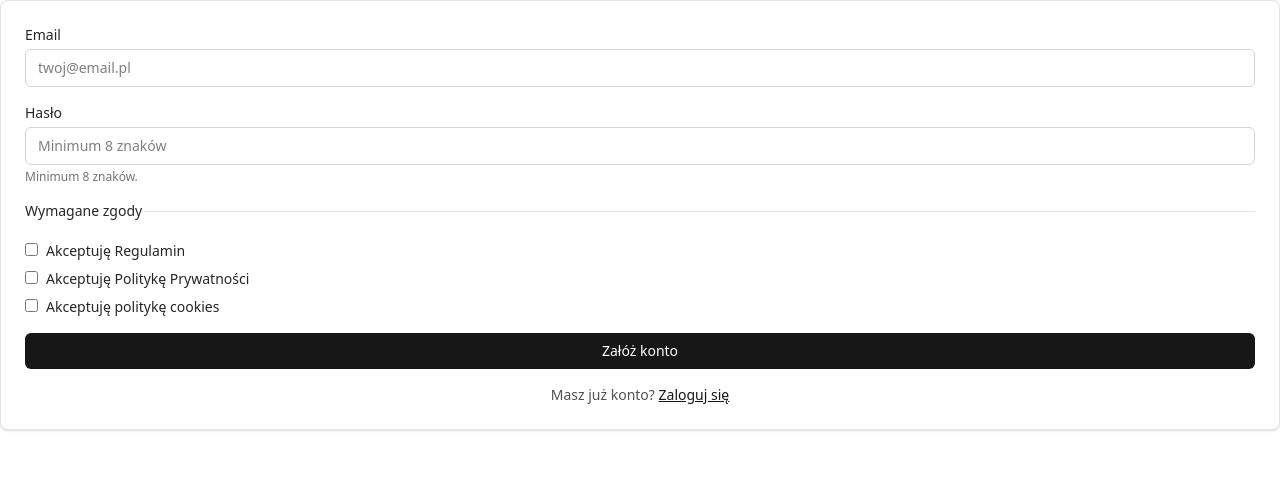
Test: SignUpForm › blokuje submit i pokazuje błąd dla zbyt krótkiego hasła
The width and height of the screenshot is (1280, 502).
Type "new-user@example.com" into the field labelled "Email" at x=640, y=68, box [25,49,1255,87]
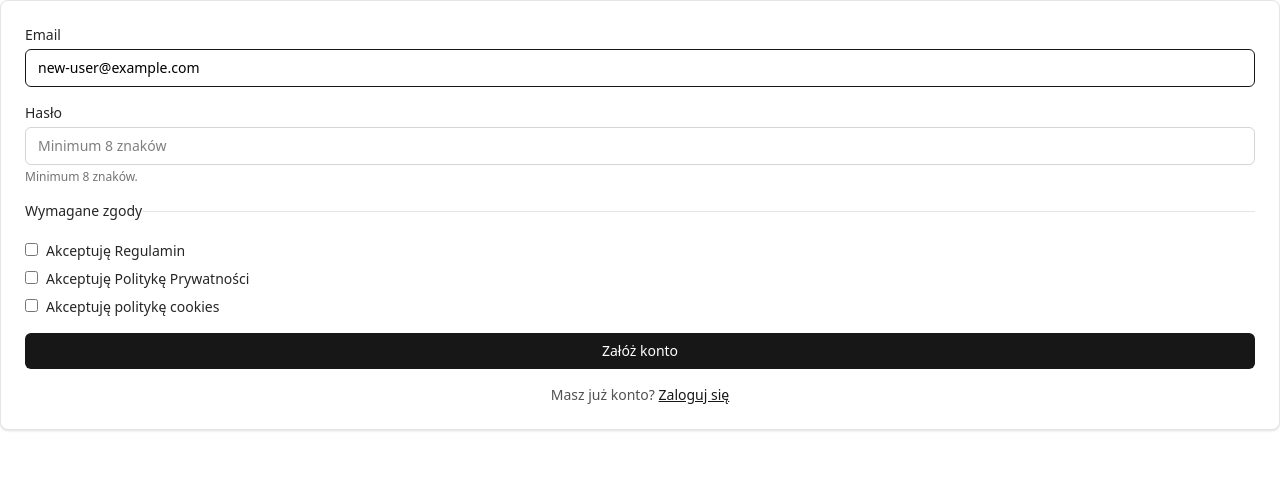
Type "1234567" into the password field labelled "Hasło" at x=640, y=146, box [25,127,1255,165]
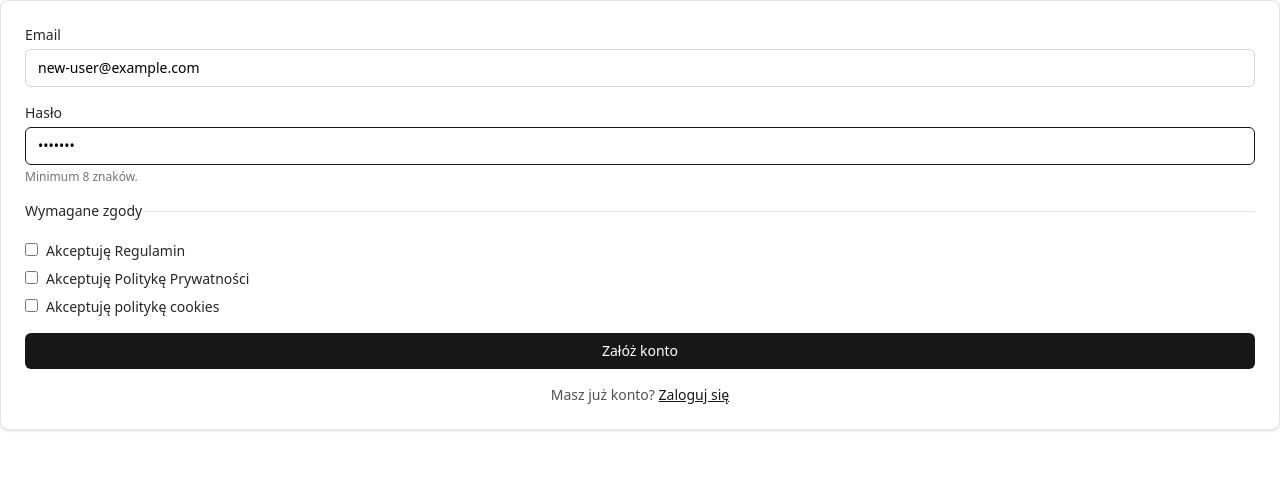
Click the checkbox labelled "Akceptuję Regulamin" at x=32, y=250, box [25,243,38,256]
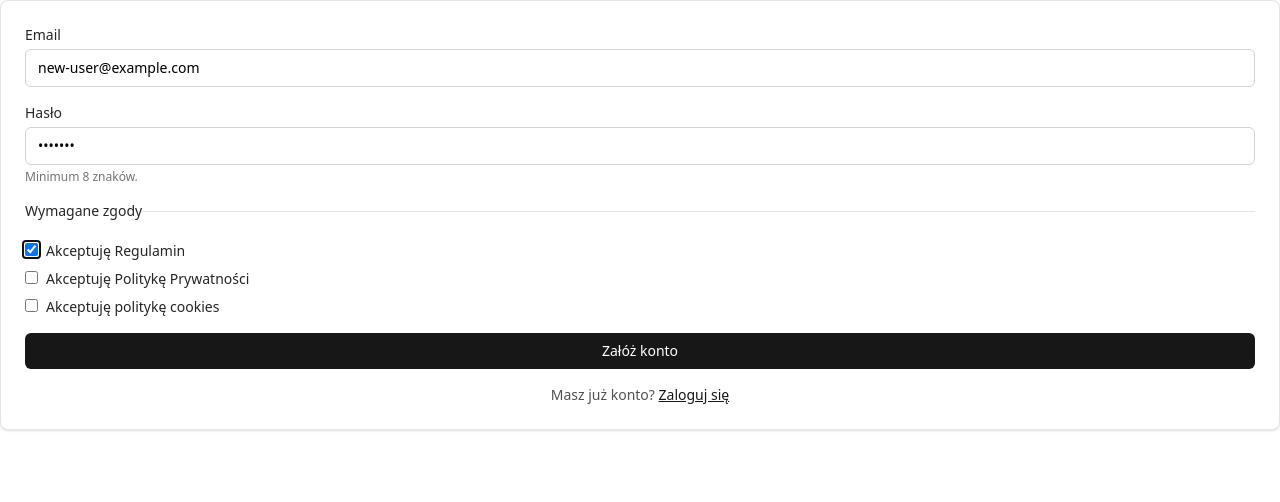
Click the checkbox labelled "Akceptuję Politykę Prywatności" at x=32, y=278, box [25,271,38,284]
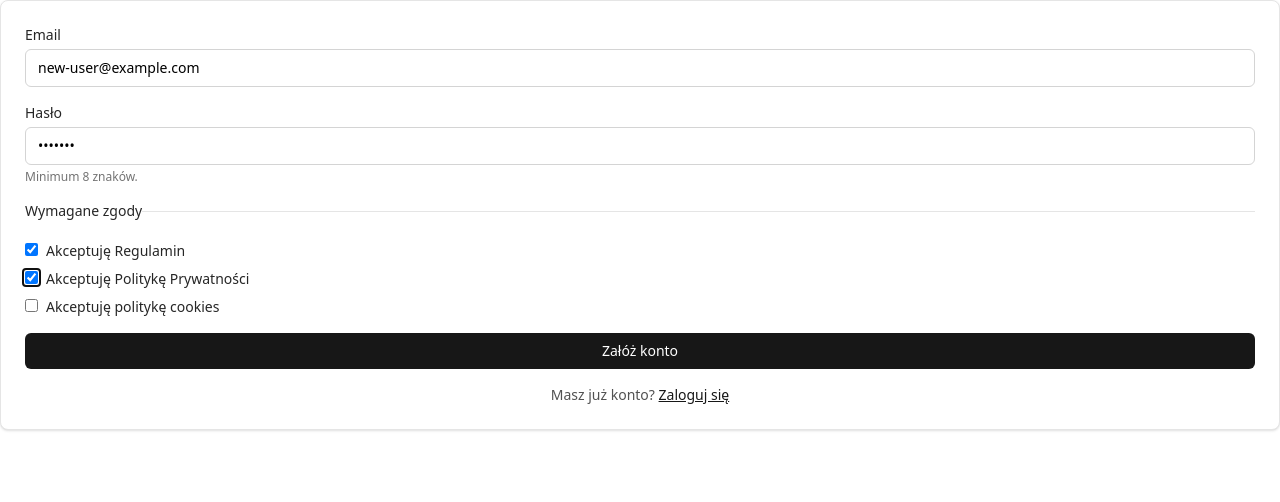
Click the checkbox labelled "Akceptuję politykę cookies" at x=32, y=306, box [25,299,38,312]
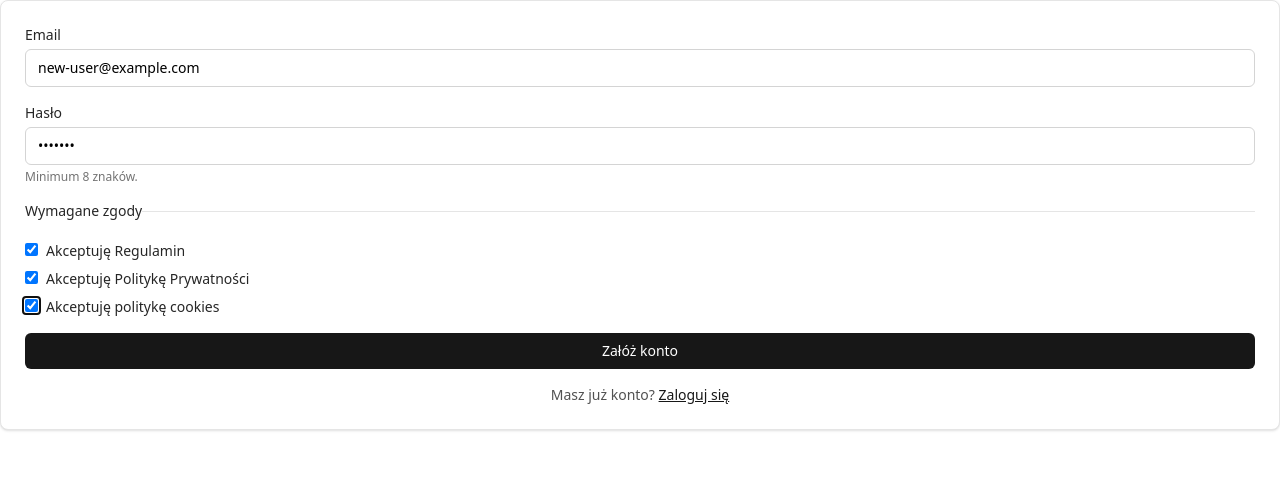
Click the button "Załóż konto" at x=640, y=351, box [25,333,1255,369]
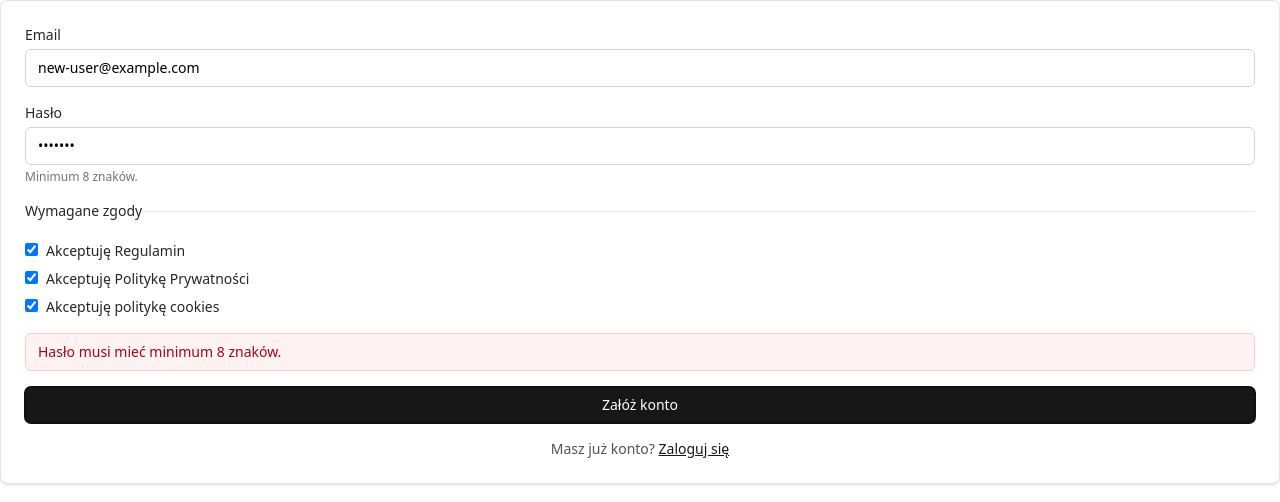
Expected: the message reads "Hasło musi mieć minimum 8 znaków.", [38,342,281,361]
